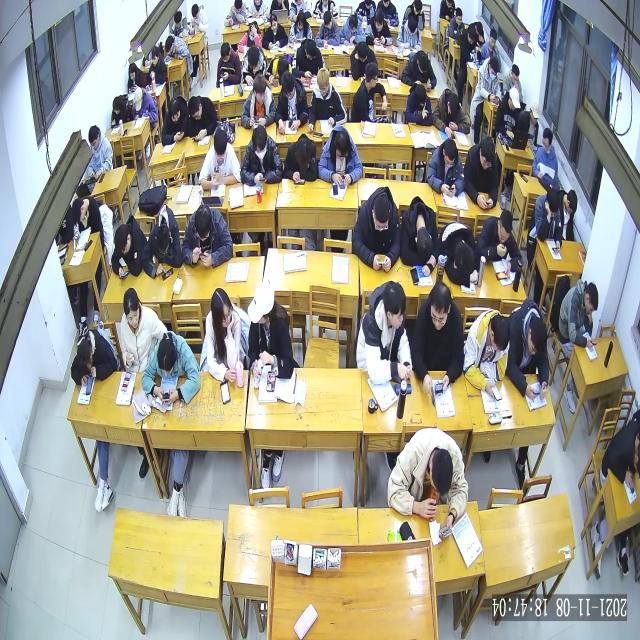bow: (140, 329, 202, 409), (506, 296, 550, 402), (399, 195, 440, 278), (476, 208, 522, 280), (141, 202, 183, 278), (70, 326, 118, 386), (438, 220, 481, 286), (110, 213, 148, 281), (432, 86, 470, 138), (282, 132, 318, 184), (400, 48, 438, 92), (186, 91, 218, 141), (160, 95, 188, 146), (240, 43, 268, 87), (350, 39, 378, 80), (264, 54, 292, 86), (340, 11, 366, 45), (238, 19, 262, 53), (164, 33, 188, 61), (223, 1, 247, 27), (170, 10, 190, 38)
down: (427, 445, 455, 497), (430, 282, 452, 332), (156, 333, 178, 378), (526, 315, 548, 359), (489, 311, 511, 353), (372, 193, 390, 232), (194, 205, 213, 241), (496, 208, 514, 246), (75, 337, 93, 375), (114, 222, 132, 258), (154, 222, 172, 258), (479, 134, 496, 170), (212, 128, 228, 166), (252, 124, 268, 160), (583, 282, 599, 318), (296, 136, 312, 170), (252, 74, 268, 106), (280, 68, 296, 100), (442, 139, 458, 171), (334, 130, 350, 162), (545, 187, 559, 220), (187, 94, 203, 122), (316, 66, 330, 98), (72, 197, 86, 225), (447, 93, 461, 121), (247, 44, 260, 72), (416, 49, 430, 74), (414, 81, 428, 106), (88, 124, 100, 152), (169, 96, 181, 124), (276, 56, 290, 80), (304, 38, 318, 62), (566, 188, 578, 216), (356, 41, 370, 64), (508, 86, 520, 112), (488, 54, 500, 80), (528, 102, 540, 125), (407, 14, 418, 38), (134, 86, 144, 112), (220, 41, 232, 62), (374, 8, 384, 32), (510, 64, 520, 88), (112, 95, 122, 117), (248, 21, 259, 41), (348, 13, 359, 33), (467, 26, 478, 46), (488, 26, 498, 48), (165, 34, 175, 54), (269, 12, 279, 32), (296, 10, 306, 30), (324, 10, 334, 30), (190, 3, 200, 20), (128, 62, 136, 82), (455, 6, 463, 26), (174, 10, 182, 29)
lookup: (123, 286, 141, 328), (150, 46, 160, 66)
sit: (386, 426, 469, 540), (410, 279, 466, 398), (356, 278, 414, 386), (247, 279, 294, 382), (462, 307, 512, 403), (352, 182, 402, 272), (119, 286, 167, 376), (204, 285, 242, 385), (182, 203, 232, 269), (558, 278, 600, 350), (462, 132, 500, 210), (317, 124, 363, 188), (198, 125, 241, 193), (240, 123, 284, 187), (306, 66, 346, 134), (426, 137, 466, 197), (600, 424, 640, 484), (276, 68, 310, 136), (352, 60, 388, 124), (240, 70, 276, 130), (534, 186, 564, 253), (86, 122, 113, 182), (530, 127, 558, 184), (291, 36, 325, 80), (496, 86, 522, 142), (71, 192, 103, 234), (404, 81, 432, 129), (215, 41, 241, 89), (478, 55, 502, 106), (558, 186, 580, 240), (364, 8, 392, 48), (262, 12, 289, 48), (132, 85, 158, 122), (396, 13, 422, 50), (316, 8, 340, 48), (146, 46, 168, 88), (520, 100, 540, 146), (460, 24, 480, 66), (288, 10, 312, 44), (110, 91, 132, 128), (480, 26, 500, 66), (502, 64, 522, 100), (188, 3, 208, 36), (448, 4, 466, 38), (127, 60, 145, 92)
